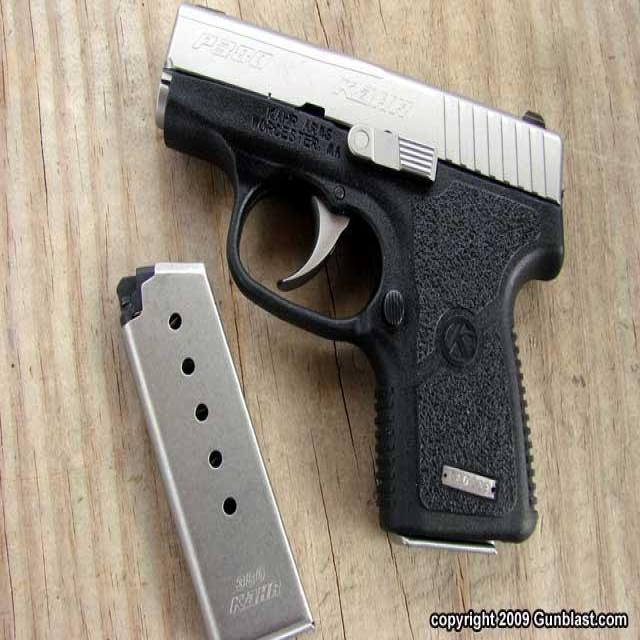HandGun: (157, 5, 564, 552)
